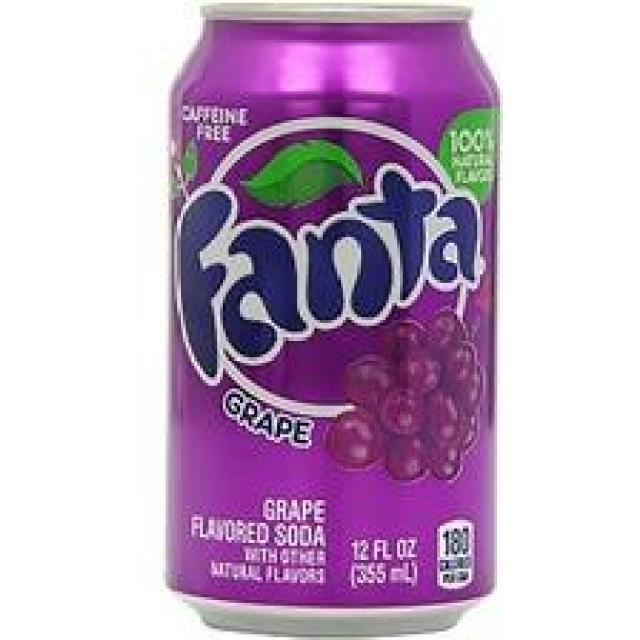kimloai: (160, 3, 503, 634)
